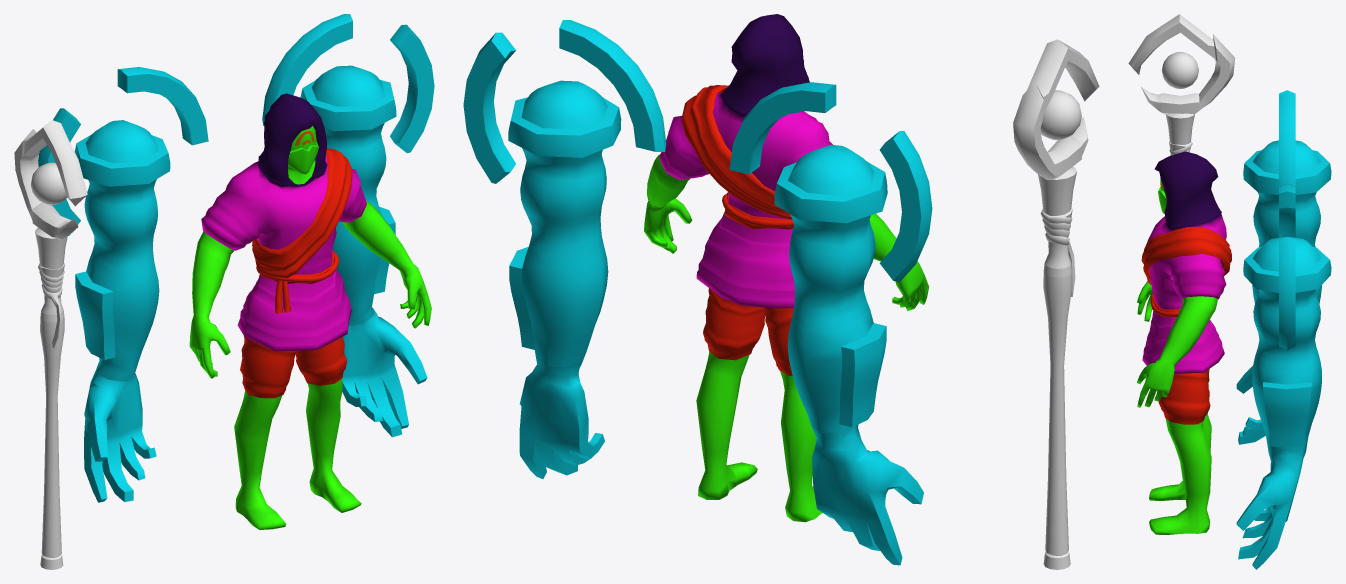
File: Ramattra RoR2 Body Robe Fixed.fbx
The picture shows the model from 3 angles, left to right: view 1: azimuth 30°, elevation 25°; view 2: azimuth 150°, elevation 25°; view 3: azimuth 270°, elevation 25°; orthographic projection. The views are drawn at different scales.
Parts seen in each view (by area): view 1: Arm Remesh Finished, Robe, Body, Staff, Arm Circles idk, Pants, Sash, Staff Orb; view 2: Arm Remesh Finished, Robe, Arm Circles idk, Staff, Body, Pants, Sash, Staff Orb; view 3: Arm Remesh Finished, Robe, Body, Staff, Arm Circles idk, Sash, Pants, Staff Orb.
Boxes of the visible parts, x1=… form: Arm Remesh Finished: x1=74, y1=65, x2=427, y2=502; Robe: x1=201, y1=93, x2=366, y2=351; Body: x1=189, y1=126, x2=431, y2=529; Staff: x1=14, y1=120, x2=87, y2=569; Arm Circles idk: x1=38, y1=14, x2=434, y2=235; Pants: x1=240, y1=336, x2=347, y2=398; Sash: x1=252, y1=148, x2=352, y2=278; Staff Orb: x1=31, y1=162, x2=67, y2=204; Arm Remesh Finished: x1=508, y1=80, x2=923, y2=565; Robe: x1=659, y1=14, x2=832, y2=308; Arm Circles idk: x1=463, y1=20, x2=932, y2=282; Staff: x1=1013, y1=39, x2=1099, y2=569; Body: x1=644, y1=154, x2=928, y2=522; Pants: x1=703, y1=288, x2=793, y2=375; Sash: x1=681, y1=85, x2=792, y2=219; Staff Orb: x1=1040, y1=90, x2=1081, y2=140; Arm Remesh Finished: x1=1236, y1=140, x2=1331, y2=569; Robe: x1=1142, y1=151, x2=1226, y2=373; Body: x1=1136, y1=178, x2=1217, y2=534; Staff: x1=1128, y1=14, x2=1235, y2=155; Arm Circles idk: x1=1279, y1=90, x2=1295, y2=350; Sash: x1=1141, y1=227, x2=1231, y2=284; Pants: x1=1158, y1=369, x2=1210, y2=424; Staff Orb: x1=1161, y1=52, x2=1198, y2=88.
Size of the model in its own units: 564 by 525 by 245.
